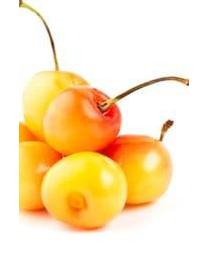cherry: (41, 151, 128, 229), (44, 86, 123, 157), (98, 134, 172, 205), (23, 71, 91, 139), (19, 138, 60, 211)
